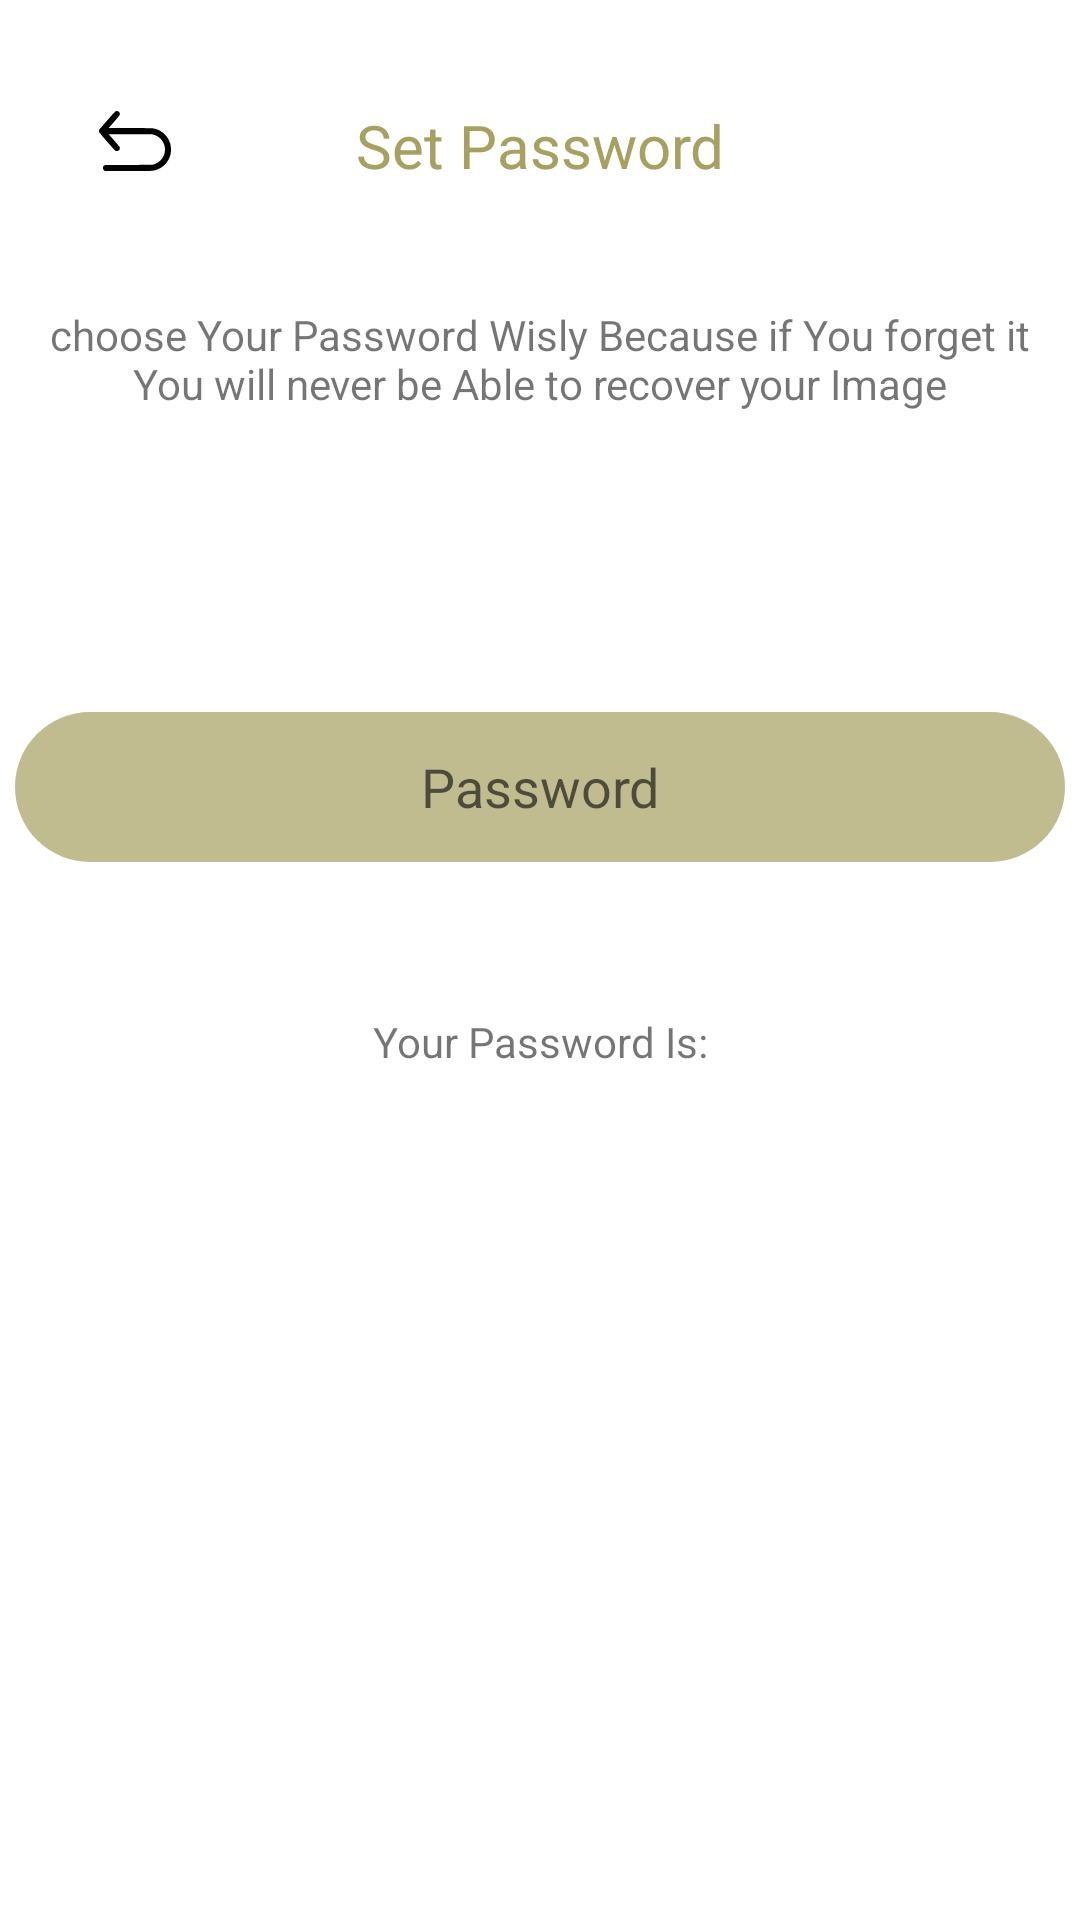

Named icons in this screenshot (1080px×1920px) and their centers, point (x, y):
undopage: point (135, 141)
